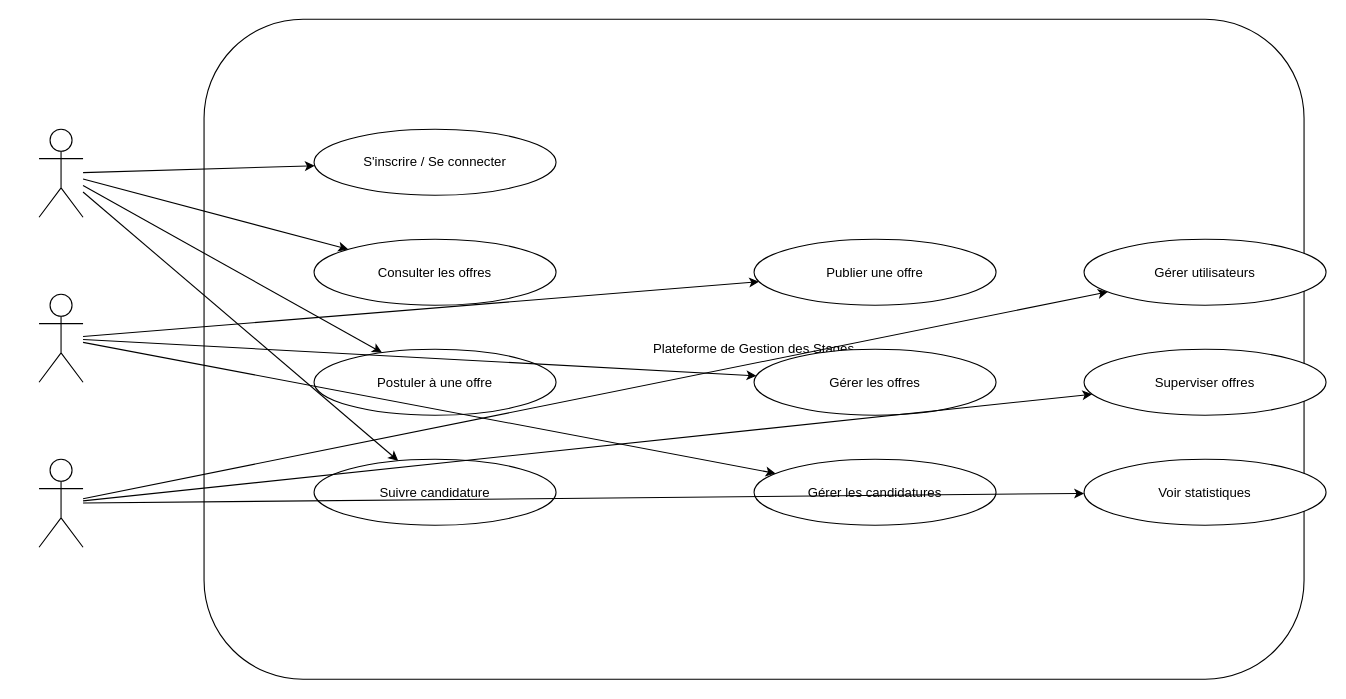
Some shapes in this 1346 by 699 pixel diagram are drawn without their labels. Here are the shapes that lost their labels. From the top down, the box of each, then its label:
(38, 128, 83, 217): Étudiant
(38, 293, 83, 382): Entreprise
(38, 458, 83, 547): Administrateur
